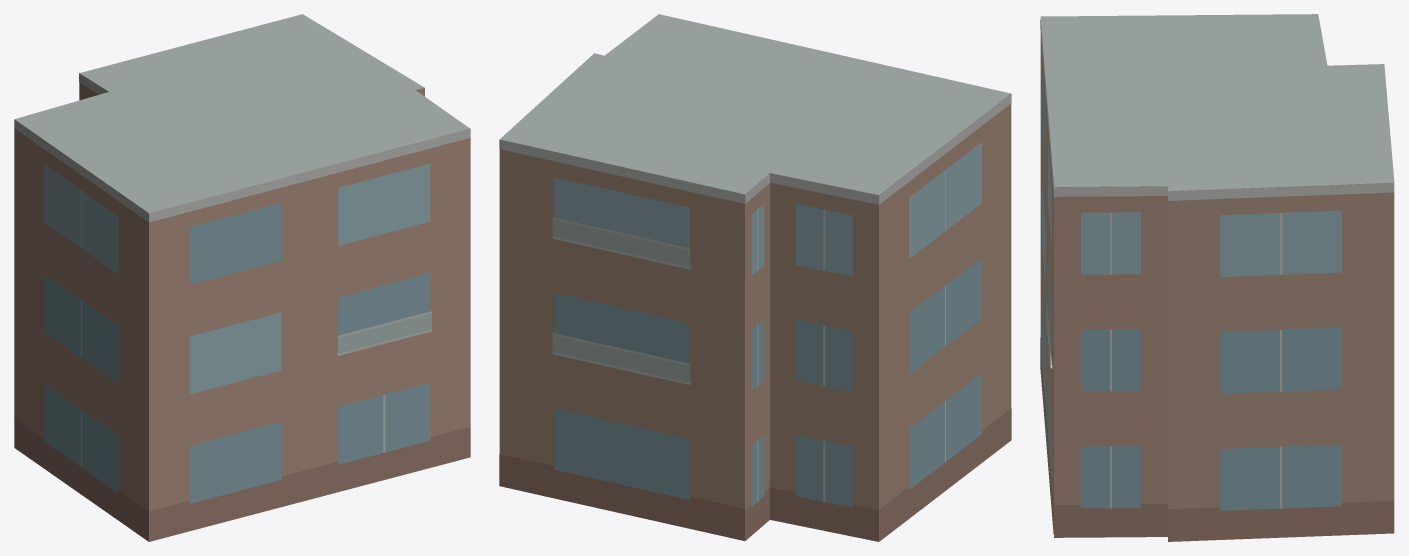
File: survey-upis-32903756.glb
3 views of the same model, side by side, from view 1: azimuth 30°, elevation 25°; view 2: azimuth 150°, elevation 25°; view 3: azimuth 270°, elevation 25° (orthographic). The views are drawn at different scales.
Visible parts, largest first — view 1: survey-upis-32903756.tmp; view 2: survey-upis-32903756.tmp; view 3: survey-upis-32903756.tmp.
Part boxes in pixels (x1,y1,x2,y2): survey-upis-32903756.tmp: (14, 14, 470, 541); survey-upis-32903756.tmp: (499, 14, 1011, 541); survey-upis-32903756.tmp: (1040, 14, 1394, 541).
Size of the model in its own units: 9.55 by 8.8 by 8.06.
